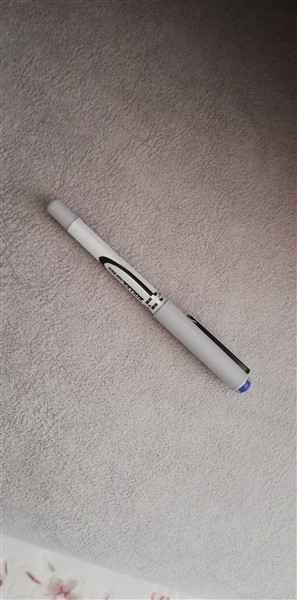pilot kalem: (41, 191, 258, 400)
